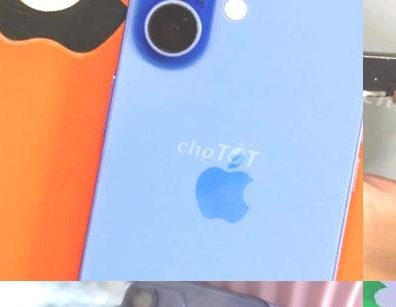scratch: (363, 0, 396, 162), (363, 24, 396, 74), (363, 68, 395, 91)
